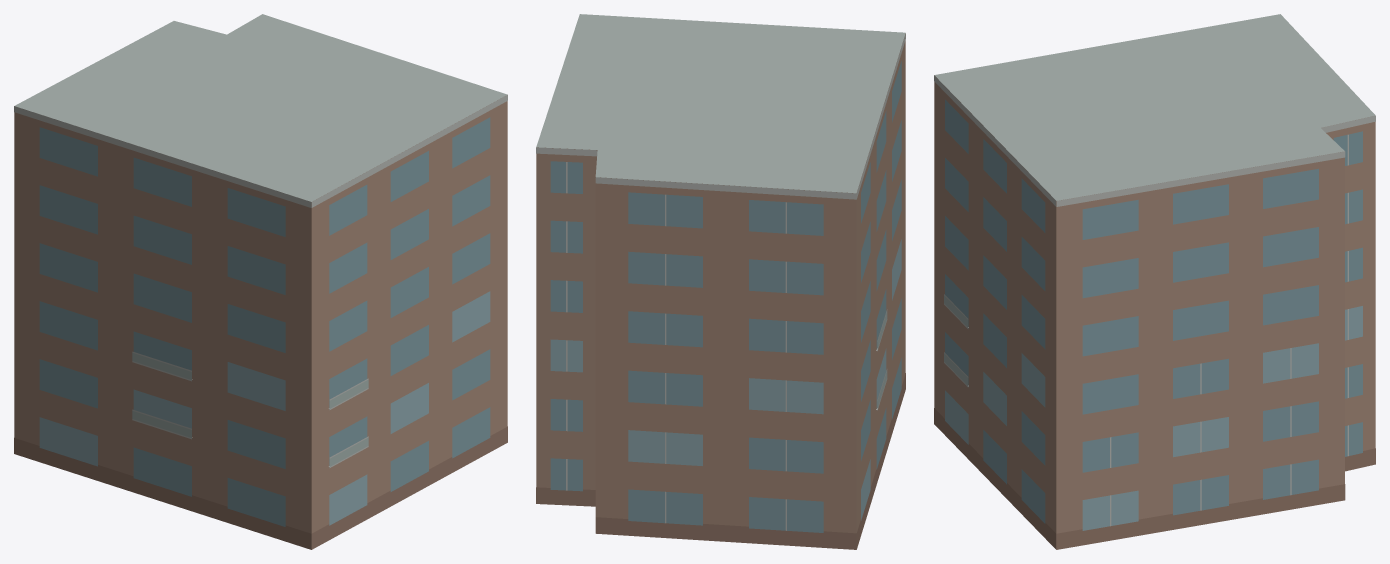
File: survey-upis-32853867.glb
3 renders of one model, left to right at view 1: azimuth 30°, elevation 25°; view 2: azimuth 150°, elevation 25°; view 3: azimuth 270°, elevation 25°, orthographic. The views are drawn at different scales.
Parts seen in each view (by area): view 1: survey-upis-32853867.tmp; view 2: survey-upis-32853867.tmp; view 3: survey-upis-32853867.tmp.
Boxes of the visible parts, left/top/right/bottom form: survey-upis-32853867.tmp: left=14, top=14, right=507, bottom=549; survey-upis-32853867.tmp: left=536, top=14, right=905, bottom=549; survey-upis-32853867.tmp: left=934, top=14, right=1375, bottom=549.
Size of the model in its own units: 15.86 by 13.8 by 15.84.
